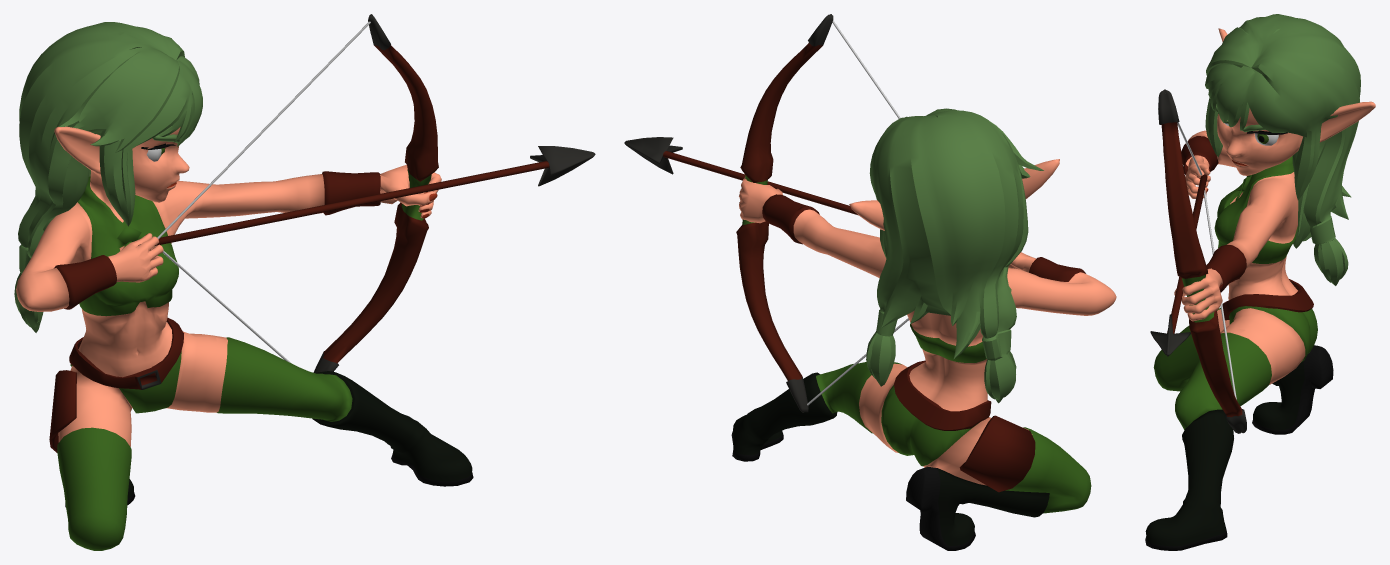
The model's file is elf_archer.fbx.
The picture shows the model from 3 angles, left to right: view 1: azimuth 30°, elevation 25°; view 2: azimuth 150°, elevation 25°; view 3: azimuth 270°, elevation 25°; orthographic projection. The views are drawn at different scales.
Parts seen in each view (by area): view 1: skin-material, hair-material, shirt-material, wood-material, leather-material, boots-material, metal-material, string-material; view 2: hair-material, skin-material, shirt-material, leather-material, wood-material, boots-material, soles-material, metal-material; view 3: hair-material, skin-material, shirt-material, boots-material, wood-material, leather-material, soles-material, metal-material, string-material.
Part boxes in pixels (x1,y1,x2,y2): skin-material: [16, 126, 441, 446]; hair-material: [14, 22, 202, 332]; shirt-material: [57, 169, 431, 550]; wood-material: [155, 45, 549, 363]; leather-material: [49, 171, 380, 452]; boots-material: [65, 371, 472, 507]; metal-material: [137, 14, 595, 389]; string-material: [157, 21, 370, 363]; hair-material: [866, 108, 1043, 403]; skin-material: [739, 159, 1116, 485]; shirt-material: [742, 175, 1091, 513]; leather-material: [762, 194, 1085, 492]; wood-material: [663, 43, 858, 380]; boots-material: [733, 372, 1049, 545]; soles-material: [731, 431, 975, 550]; metal-material: [624, 14, 833, 412]; hair-material: [1205, 14, 1360, 285]; skin-material: [1174, 28, 1375, 384]; shirt-material: [1153, 156, 1317, 429]; boots-material: [1145, 361, 1304, 546]; wood-material: [1161, 122, 1242, 417]; leather-material: [1181, 136, 1313, 320]; soles-material: [1145, 345, 1333, 550]; metal-material: [1150, 89, 1246, 433]; string-material: [1177, 122, 1236, 399].
Bounding box in the file's own units: 1.01 × 0.8377 × 0.4163.
